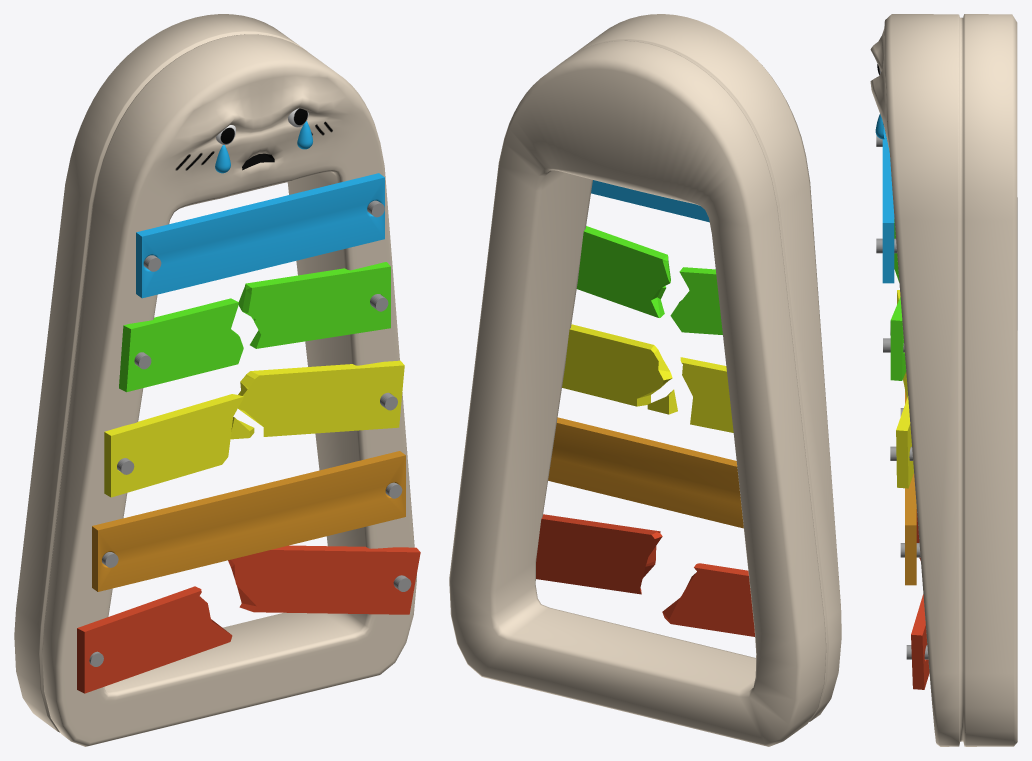
The model's file is xylophone_1.dae.
3 renders of one model, left to right at view 1: azimuth 30°, elevation 25°; view 2: azimuth 150°, elevation 25°; view 3: azimuth 270°, elevation 25°, orthographic. The views are drawn at different scales.
Visible parts, largest first — view 1: polySurface1, CubeFBXASC046016, CubeFBXASC046015, CubeFBXASC046020, CubeFBXASC046019, polySurface7, CubeFBXASC046021, CubeFBXASC046018, polySurface6; view 2: polySurface1, CubeFBXASC046016, CubeFBXASC046020, CubeFBXASC046019, polySurface7, CubeFBXASC046021, CubeFBXASC046018, polySurface6, CubeFBXASC046015; view 3: polySurface1, CubeFBXASC046015, CubeFBXASC046016, CubeFBXASC046020, CubeFBXASC046019, polySurface7.
Boxes of the visible parts, x1,y1,x2,y2 form: polySurface1: (14,14,416,746); CubeFBXASC046016: (92,451,405,591); CubeFBXASC046015: (136,173,384,298); CubeFBXASC046020: (228,545,420,614); CubeFBXASC046019: (230,360,404,439); polySurface7: (238,262,390,348); CubeFBXASC046021: (77,586,232,693); CubeFBXASC046018: (104,394,243,497); polySurface6: (119,298,243,392); polySurface1: (449,14,841,746); CubeFBXASC046016: (548,417,743,528); CubeFBXASC046020: (536,514,662,594); CubeFBXASC046019: (562,324,677,414); polySurface7: (576,226,670,317); CubeFBXASC046021: (662,563,754,636); CubeFBXASC046018: (680,357,733,432); polySurface6: (670,267,722,334); CubeFBXASC046015: (591,180,709,222); polySurface1: (870,14,1017,746); CubeFBXASC046015: (882,125,894,283); CubeFBXASC046016: (905,390,916,585); CubeFBXASC046020: (911,594,929,689); CubeFBXASC046019: (896,396,913,488); polySurface7: (890,297,906,380).
Bounding box in the file's own units: 282 × 497 × 102.
1 material, 1 textured.
